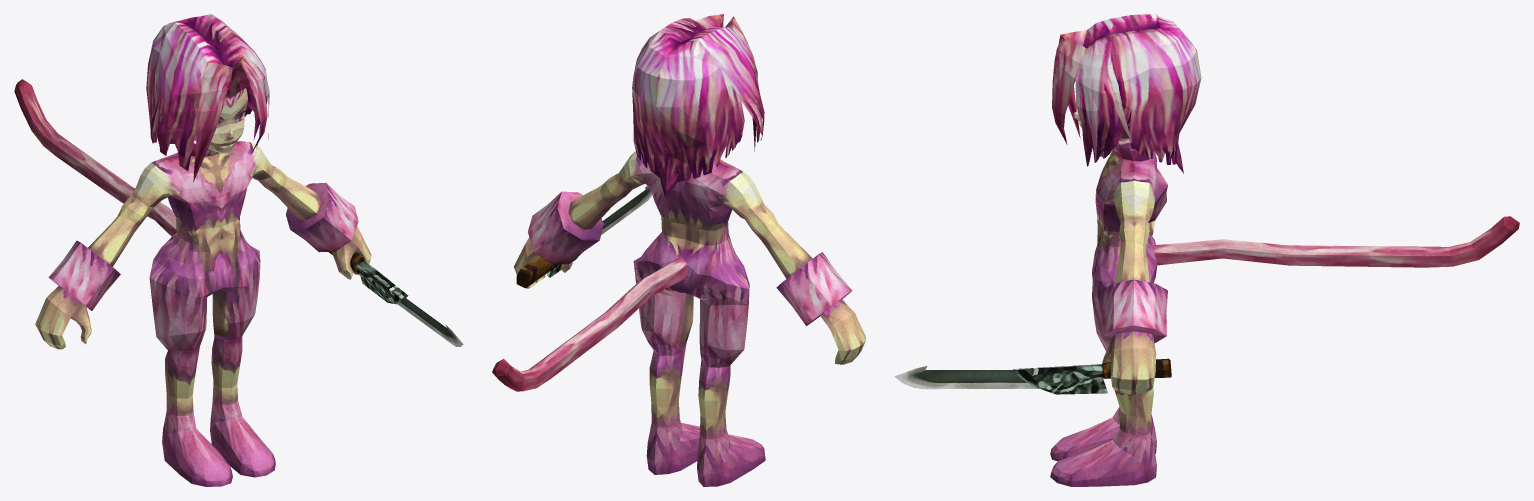
Rendered from Zidane__Trance__303116.glb.
The picture shows the model from 3 angles, left to right: view 1: azimuth 30°, elevation 25°; view 2: azimuth 150°, elevation 25°; view 3: azimuth 270°, elevation 25°; orthographic projection. The views are drawn at different scales.
Parts seen in each view (by area): view 1: mesh0_002-mesh__81_1_002-material_2, mesh1_002-mesh__81_0_002-material_0, battle_model0_002-mesh__81_0_002-material_1, battle_model1_002-mesh__81_1_002-material_3; view 2: mesh0_002-mesh__81_1_002-material_2, mesh1_002-mesh__81_0_002-material_0, battle_model0_002-mesh__81_0_002-material_1, battle_model1_002-mesh__81_1_002-material_3; view 3: mesh1_002-mesh__81_0_002-material_0, mesh0_002-mesh__81_1_002-material_2, battle_model0_002-mesh__81_0_002-material_1, battle_model1_002-mesh__81_1_002-material_3.
Part boxes in pixels (x1,y1,x2,y2): mesh0_002-mesh__81_1_002-material_2: (35,89,371,486); mesh1_002-mesh__81_0_002-material_0: (14,14,269,236); battle_model0_002-mesh__81_0_002-material_1: (329,251,408,304); battle_model1_002-mesh__81_1_002-material_3: (397,297,463,346); mesh0_002-mesh__81_1_002-material_2: (513,151,865,486); mesh1_002-mesh__81_0_002-material_0: (492,14,764,391); battle_model0_002-mesh__81_0_002-material_1: (516,223,604,288); battle_model1_002-mesh__81_1_002-material_3: (601,186,652,234); mesh1_002-mesh__81_0_002-material_0: (1052,14,1519,267); mesh0_002-mesh__81_1_002-material_2: (1050,138,1167,486); battle_model0_002-mesh__81_0_002-material_1: (1013,358,1171,394); battle_model1_002-mesh__81_1_002-material_3: (894,366,1039,389).
Size of the model in its own units: 366 by 452 by 579.
Materials: 2 (2 with a texture image).
